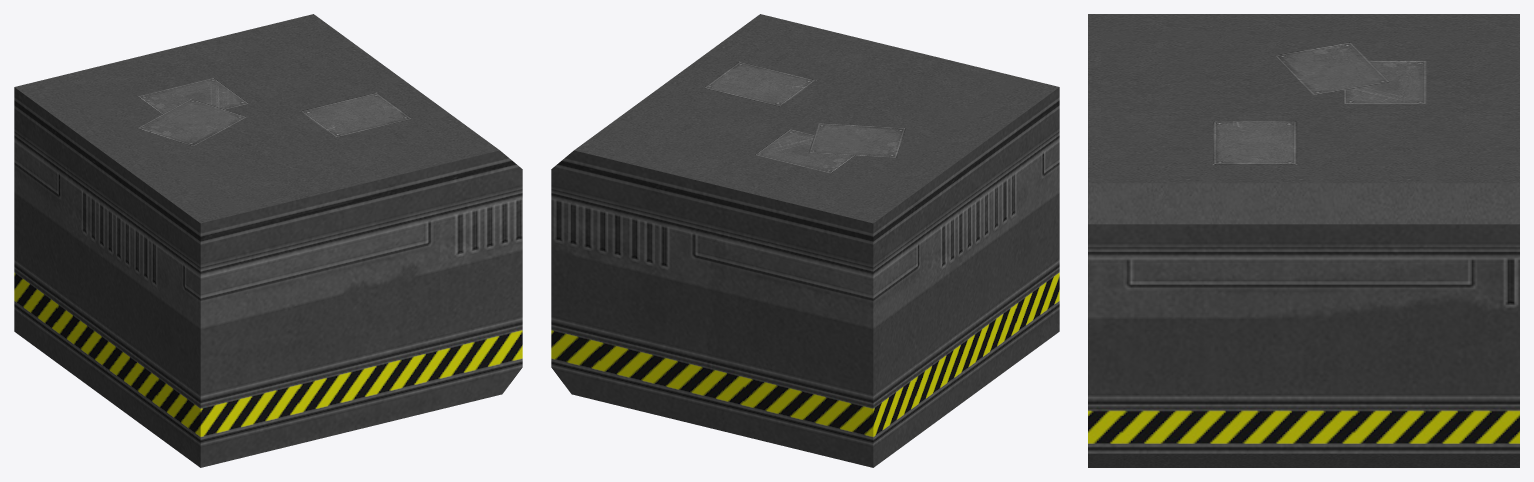
Rendered from Map_Platform_Cornered_Square.fbx.
The picture shows the model from 3 angles, left to right: view 1: azimuth 30°, elevation 25°; view 2: azimuth 150°, elevation 25°; view 3: azimuth 270°, elevation 25°; orthographic projection. The views are drawn at different scales.
Visible parts, largest first — view 1: Map_Platform_Cornered_Square; view 2: Map_Platform_Cornered_Square; view 3: Map_Platform_Cornered_Square.
Boxes of the visible parts, <box> form: Map_Platform_Cornered_Square: <box>14,14,522,467</box>; Map_Platform_Cornered_Square: <box>551,14,1059,467</box>; Map_Platform_Cornered_Square: <box>1088,14,1519,467</box>.
Size of the model in its own units: 620 by 450 by 622.
Materials: 1 (1 with a texture image).
